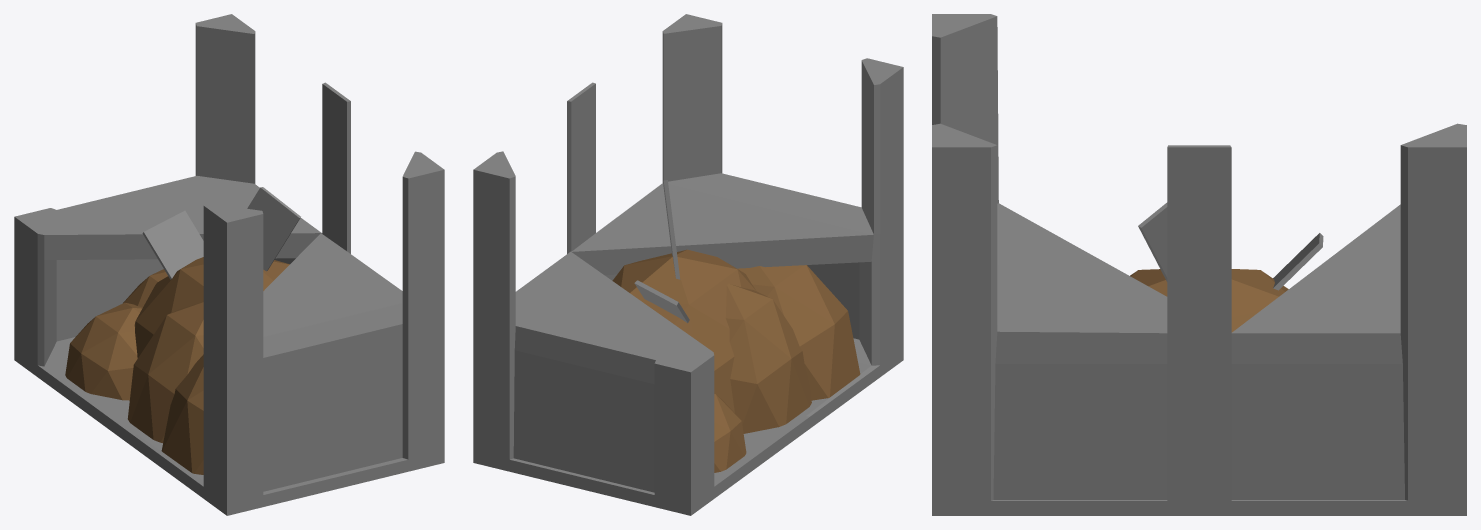
The model's file is Building Ruins.fbx.
3 views of the same model, side by side, from view 1: azimuth 30°, elevation 25°; view 2: azimuth 150°, elevation 25°; view 3: azimuth 270°, elevation 25° (orthographic). The views are drawn at different scales.
Visible parts, largest first — view 1: Building-Ruins; view 2: Building-Ruins; view 3: Building-Ruins.
Boxes of the visible parts, x1=… form: Building-Ruins: x1=14, y1=14, x2=444, y2=515; Building-Ruins: x1=473, y1=14, x2=903, y2=515; Building-Ruins: x1=932, y1=14, x2=1466, y2=515.
Bounding box in the file's own units: 20000 × 25770 × 33882.
